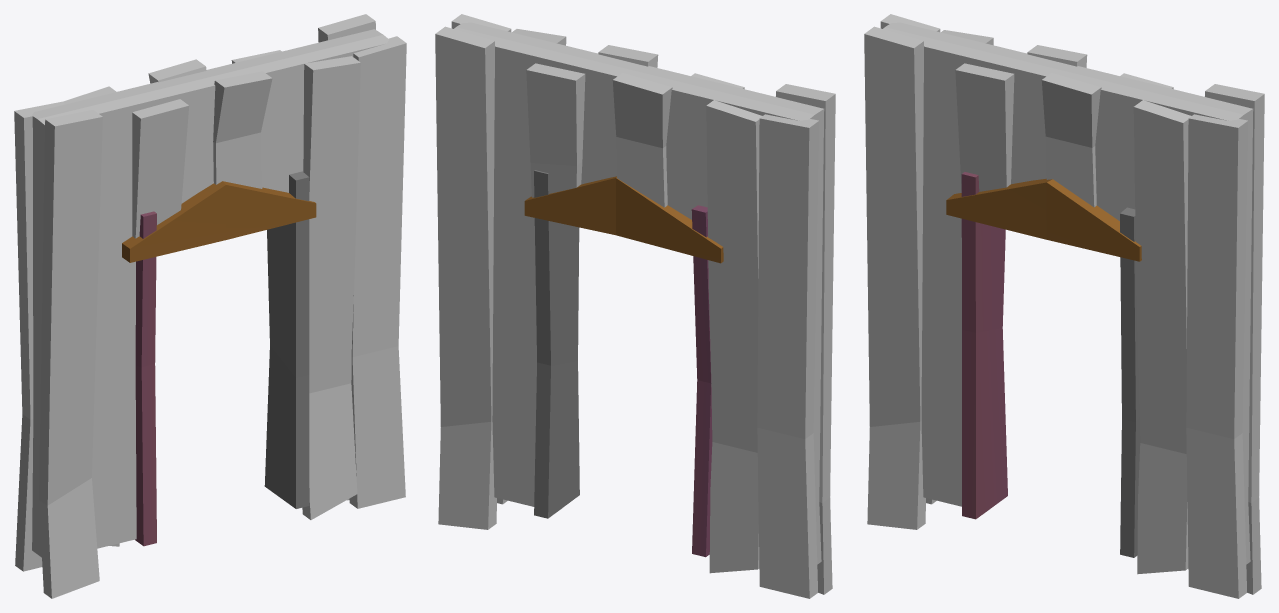
The model's file is SM_Bld_Wall_Door_01.fbx.
3 renders of one model, left to right at view 1: azimuth 30°, elevation 25°; view 2: azimuth 150°, elevation 25°; view 3: azimuth 330°, elevation 25°, orthographic. The views are drawn at different scales.
Visible parts, largest first — view 1: SM_Bld_Wall_Door_01; view 2: SM_Bld_Wall_Door_01; view 3: SM_Bld_Wall_Door_01.
Part boxes in pixels (x1,y1,x2,y2): SM_Bld_Wall_Door_01: [14, 14, 406, 598]; SM_Bld_Wall_Door_01: [435, 14, 835, 598]; SM_Bld_Wall_Door_01: [864, 14, 1264, 598].
Size of the model in its own units: 263 by 328 by 46.79.
